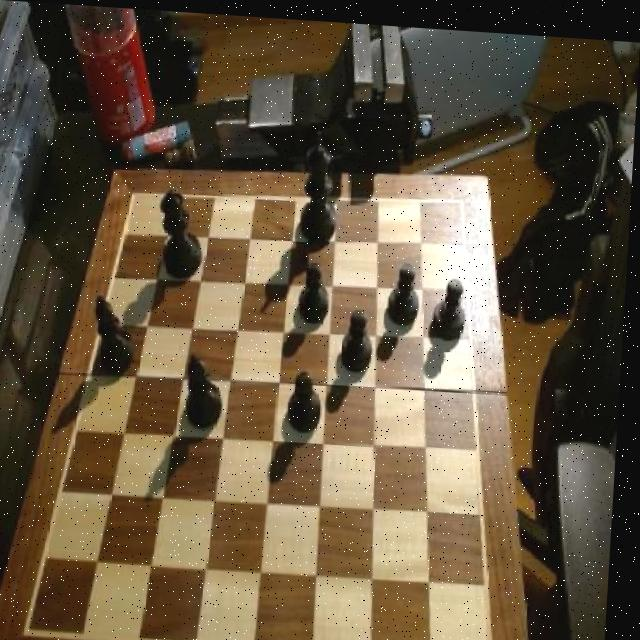bishop: (92, 290, 143, 375), (185, 347, 232, 432)
black-bishop: (297, 125, 345, 245)
black-knight: (290, 362, 329, 431), (433, 270, 470, 341), (344, 304, 380, 371), (389, 257, 426, 322), (303, 255, 337, 319)
black-pawn: (157, 184, 207, 280)
